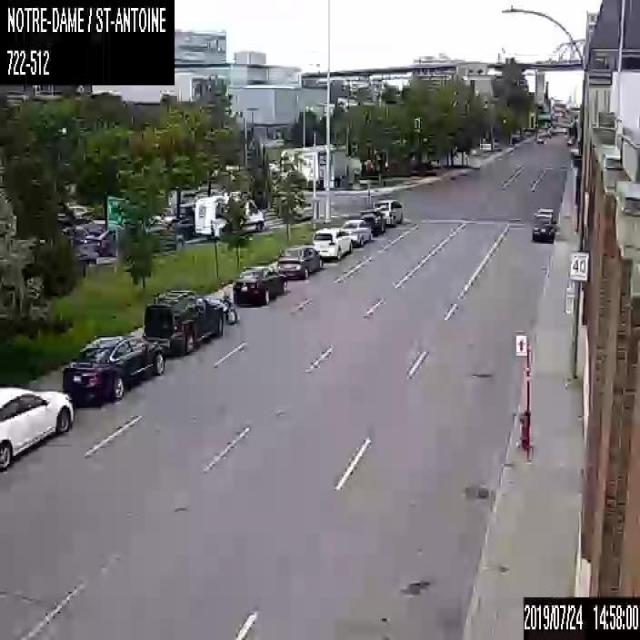vehicle: (62, 333, 165, 400), (0, 385, 73, 470), (142, 288, 224, 352), (194, 192, 264, 237), (232, 265, 287, 304), (276, 244, 322, 279), (312, 226, 352, 259), (145, 225, 184, 251), (207, 292, 237, 322), (372, 198, 404, 226), (340, 218, 371, 245), (358, 208, 385, 234), (531, 214, 555, 242), (83, 226, 110, 250), (168, 216, 194, 237), (532, 206, 556, 219)
